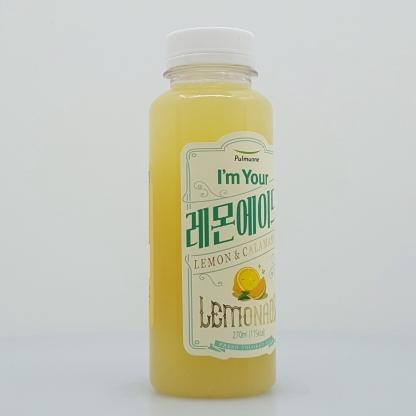----------------270ML: (148, 26, 276, 399)
